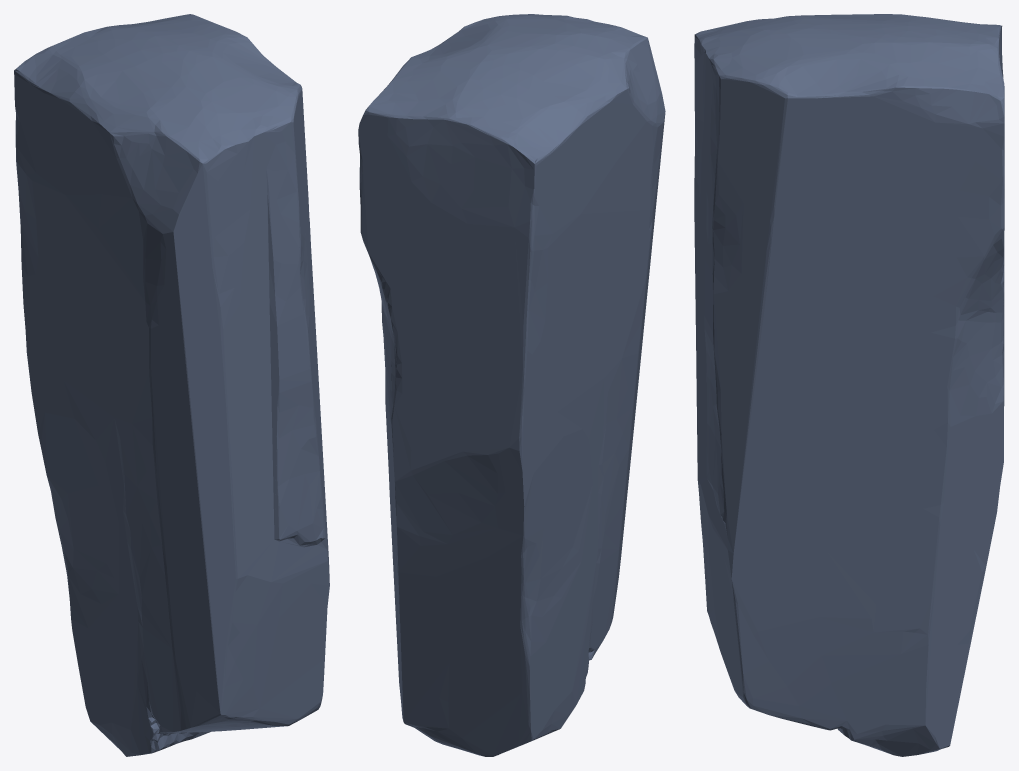
3 renders of one model, left to right at view 1: azimuth 30°, elevation 25°; view 2: azimuth 150°, elevation 25°; view 3: azimuth 270°, elevation 25°, orthographic. The views are drawn at different scales.
Visible parts, largest first — view 1: SM_GF_Cliff_Overhang_01_LOD0; view 2: SM_GF_Cliff_Overhang_01_LOD0; view 3: SM_GF_Cliff_Overhang_01_LOD0.
Part boxes in pixels (<box>): SM_GF_Cliff_Overhang_01_LOD0: <box>14,14,329,756</box>; SM_GF_Cliff_Overhang_01_LOD0: <box>358,14,665,756</box>; SM_GF_Cliff_Overhang_01_LOD0: <box>694,14,1004,756</box>.
Size of the model in its own units: 11.51 by 42.58 by 16.97.
